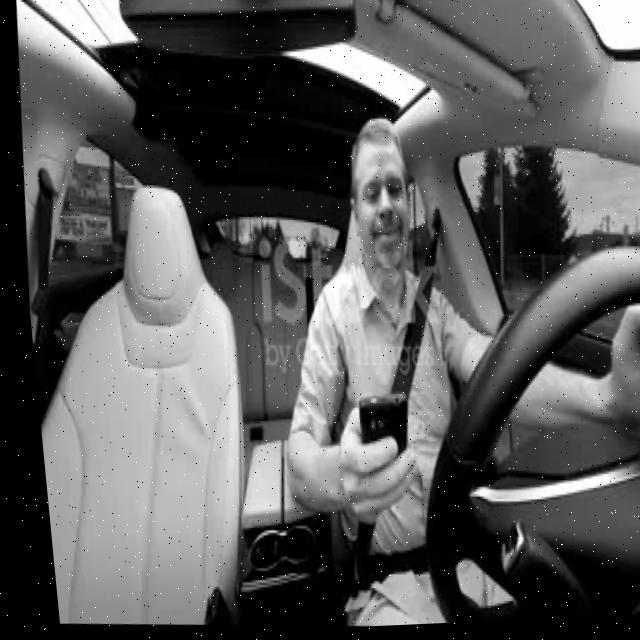PhoneCall: (342, 392, 406, 496)
